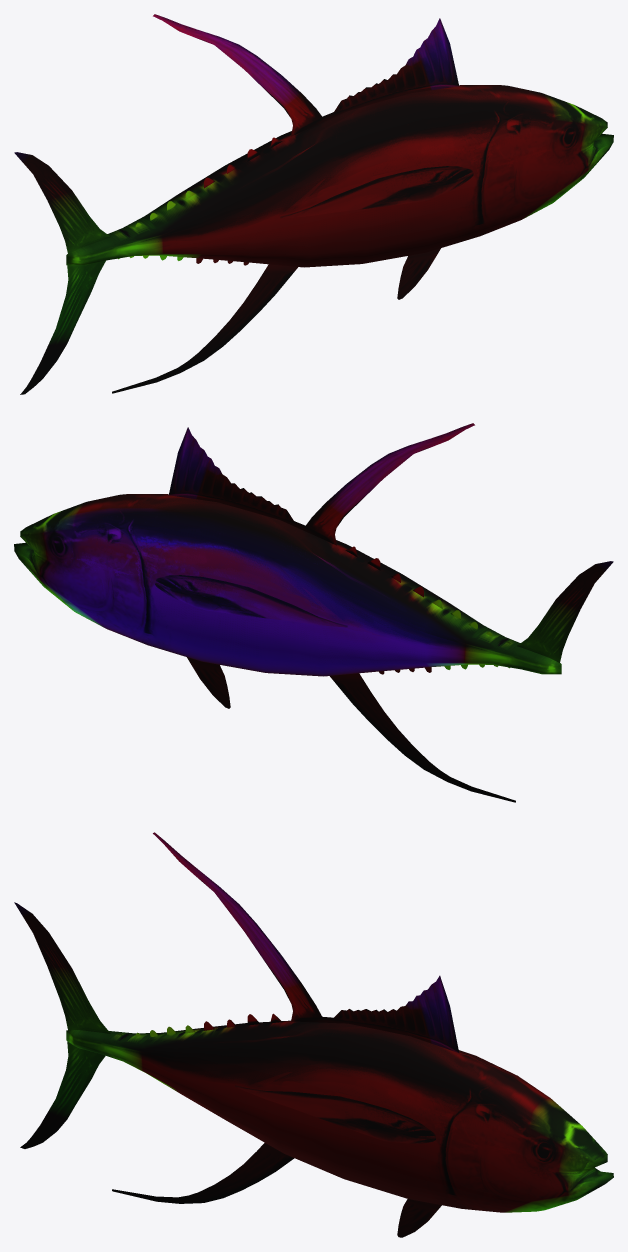
The model's file is yellowfin_tuna.glb.
3 views of the same model, one above another, from view 1: azimuth 30°, elevation 25°; view 2: azimuth 150°, elevation 25°; view 3: azimuth 330°, elevation 25° (orthographic).
Parts seen in each view (by area): view 1: YellowfinTuna; view 2: YellowfinTuna; view 3: YellowfinTuna.
Part boxes in pixels (x1,y1,x2,y2): YellowfinTuna: [14, 14, 613, 394]; YellowfinTuna: [14, 423, 613, 802]; YellowfinTuna: [14, 832, 613, 1237].
Bounding box in the file's own units: 1 × 0.5883 × 0.1312.
Materials: 1 (1 with a texture image).
